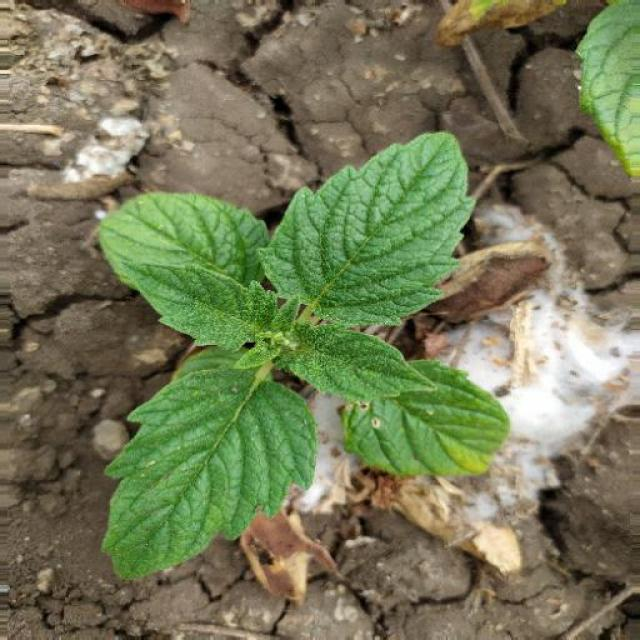crop: (65, 125, 509, 546)
